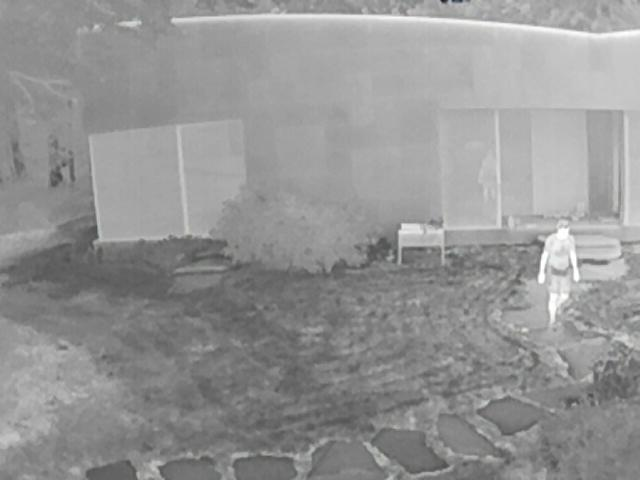person: (536, 219, 582, 327), (478, 148, 498, 206)
